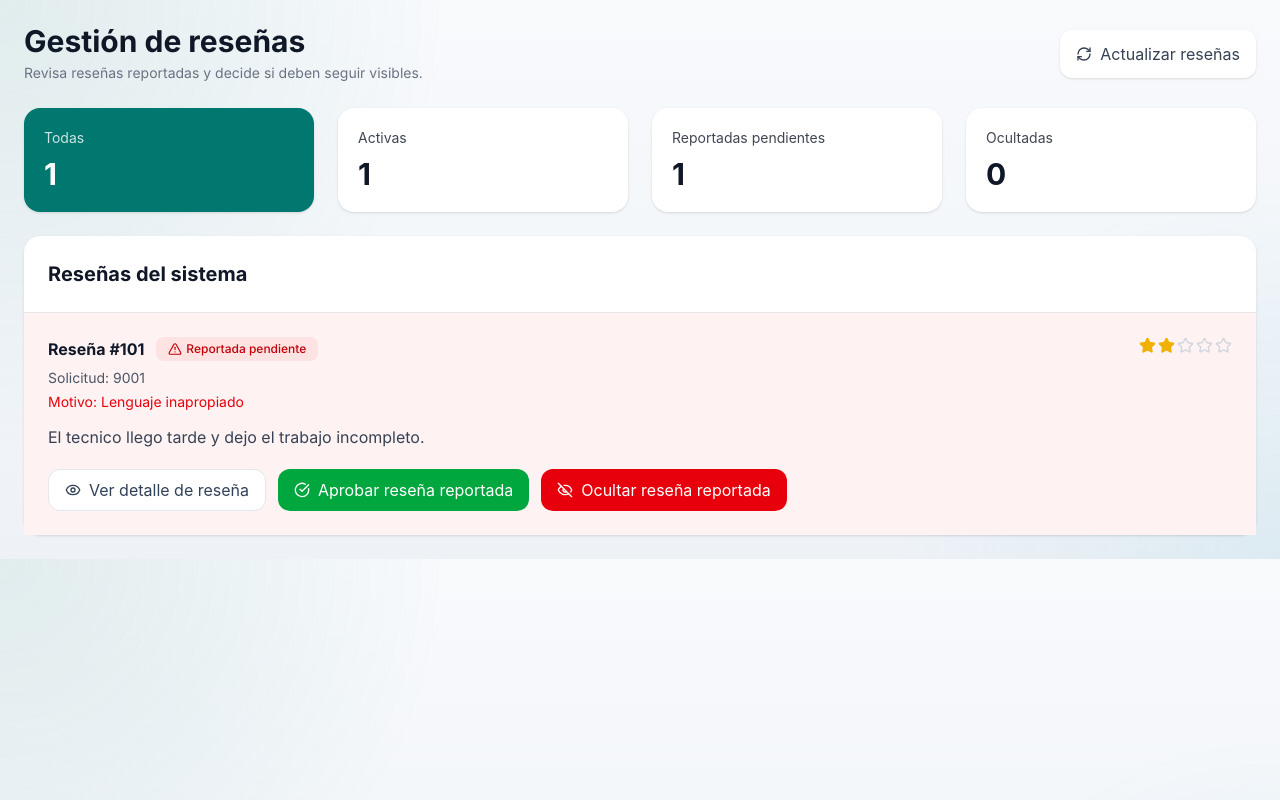
ReviewManagement › CP-REV-004 oculta una reseña reportada pendiente
Expected: the heading "Gestión de reseñas" is shown, [24, 24, 305, 60]
Click the button "Ocultar reseña reportada" at (664, 490), box [541, 469, 787, 511]
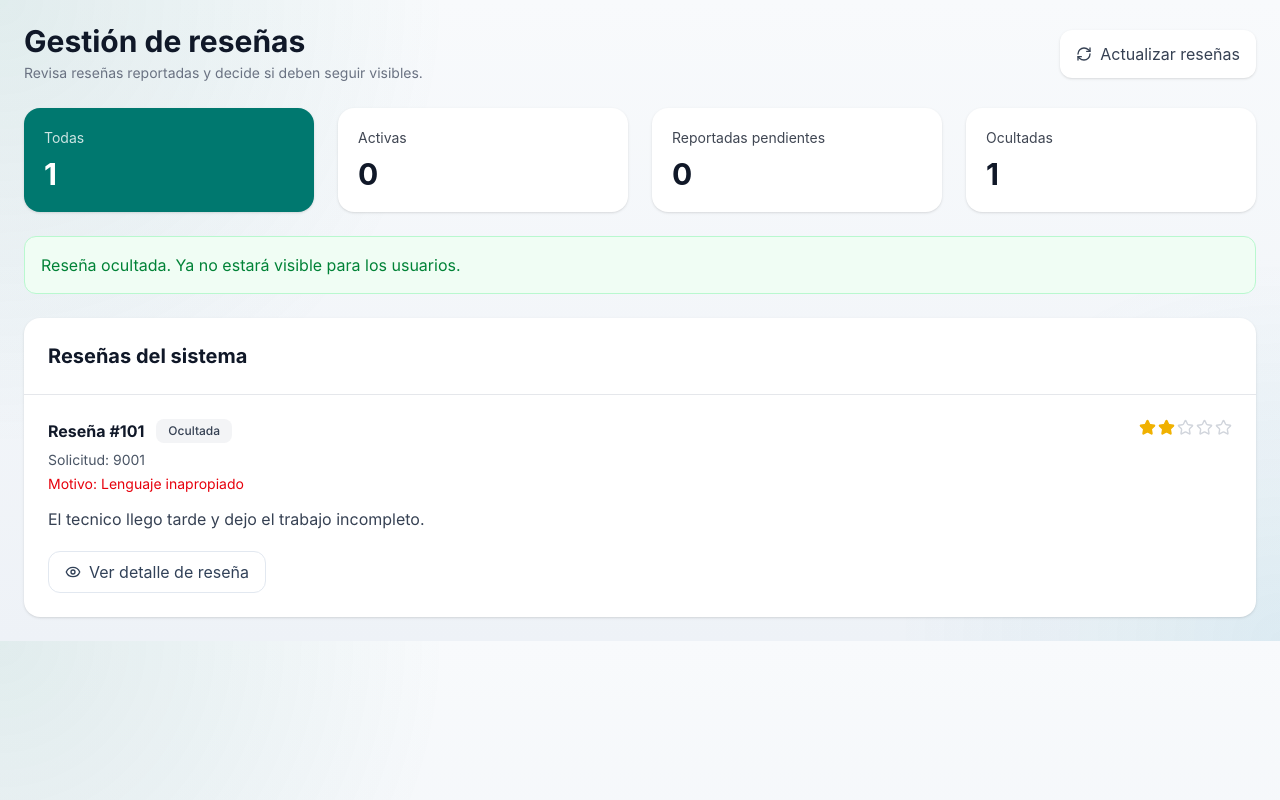
Expected: the text "Reseña ocultada. Ya no estará visible para los usuarios." is shown, [24, 236, 1256, 294]
Expected: the text "Ocultada" is shown, [156, 419, 232, 443]
Expected: the button "ocultar rese.a reportada" is gone
